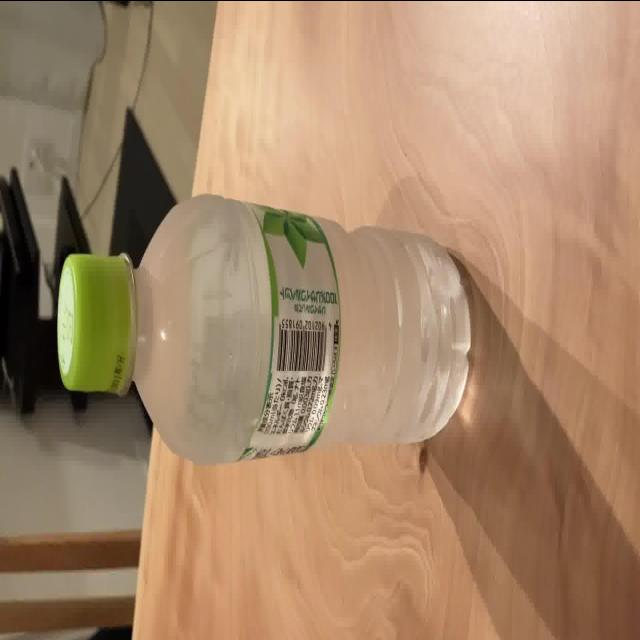寶特瓶: (55, 191, 473, 468)
